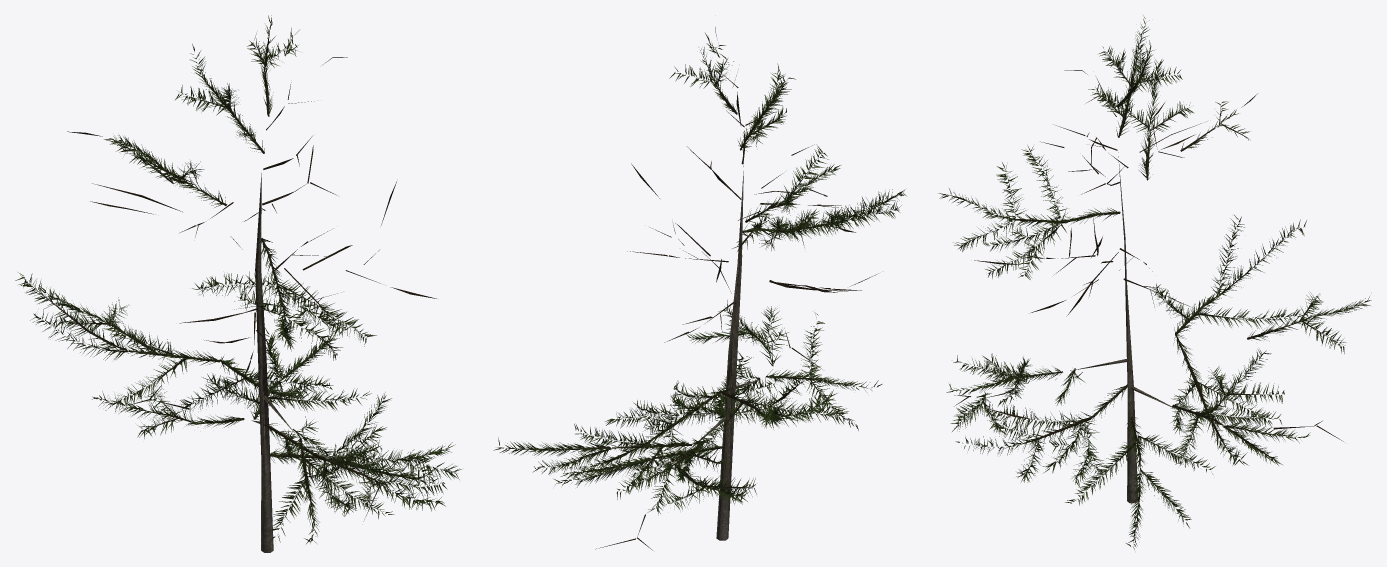
The model's file is fir_sapling_b.glb.
The picture shows the model from 3 angles, left to right: view 1: azimuth 30°, elevation 25°; view 2: azimuth 150°, elevation 25°; view 3: azimuth 270°, elevation 25°; orthographic projection. The views are drawn at different scales.
Parts seen in each view (by area): view 1: fir_sapling_b__lodS; view 2: fir_sapling_b__lodS; view 3: fir_sapling_b__lodS.
Boxes of the visible parts, bbox=[...] form: fir_sapling_b__lodS: bbox=[15, 15, 461, 552]; fir_sapling_b__lodS: bbox=[493, 27, 906, 550]; fir_sapling_b__lodS: bbox=[938, 15, 1371, 549].
Size of what is drawn, in the model's own units: 0.6252 by 0.905 by 0.7667.
2 materials, 2 textured.
